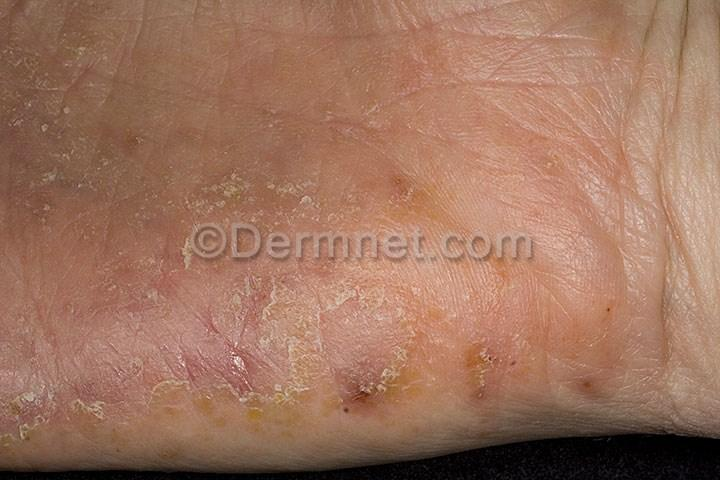Eczema: (249, 268, 627, 416), (171, 46, 459, 226), (5, 2, 157, 229), (4, 297, 223, 451)
